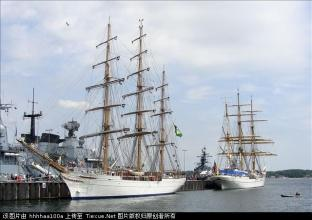fanchuan: (30, 20, 186, 199), (200, 94, 266, 191)
